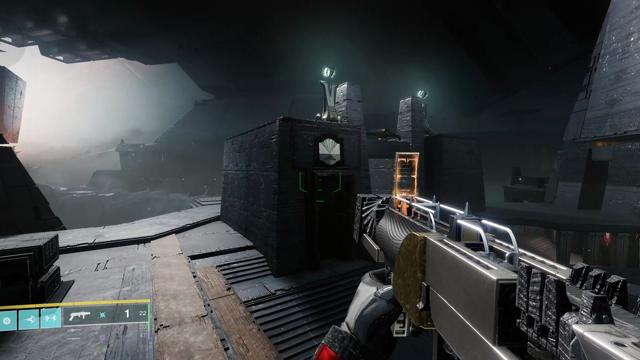commune: (319, 139, 340, 165)
kill: (600, 232, 610, 249)
